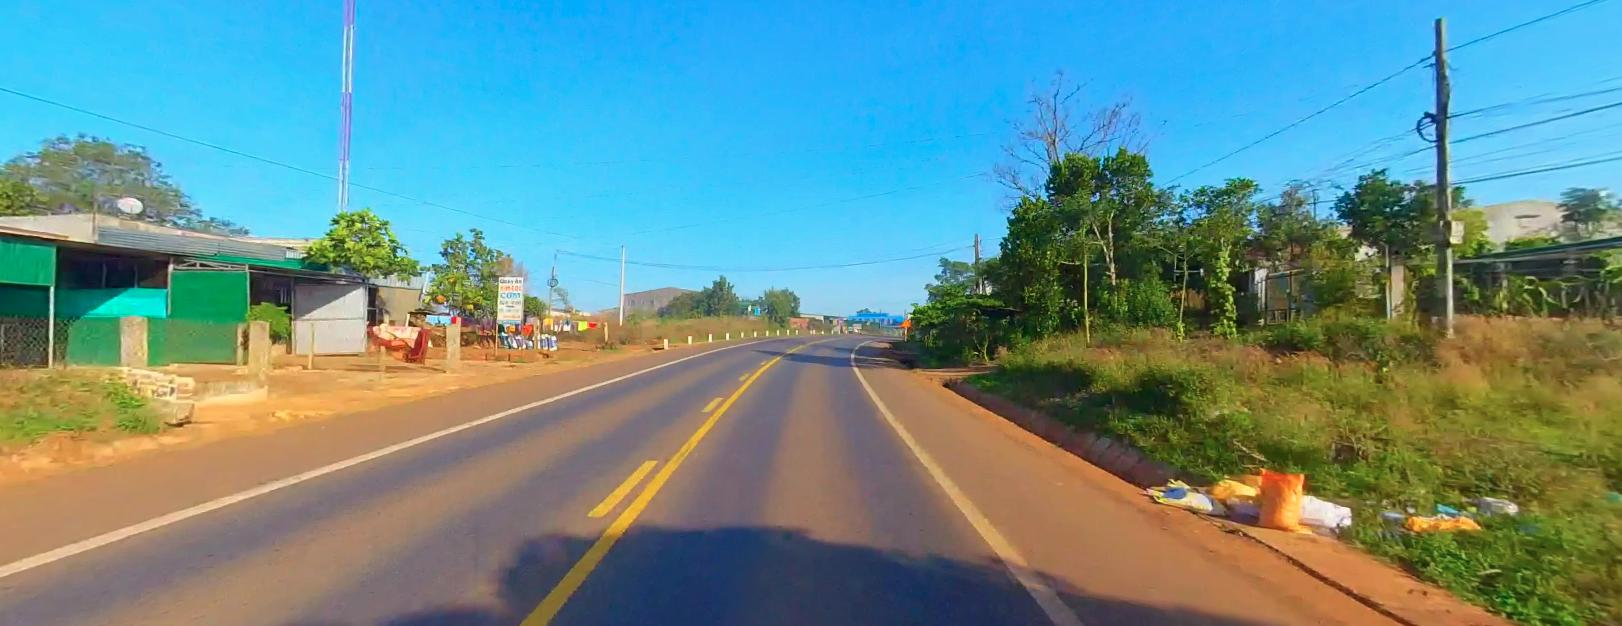Nguy hiem: (900, 317, 911, 326), (900, 317, 910, 325)
